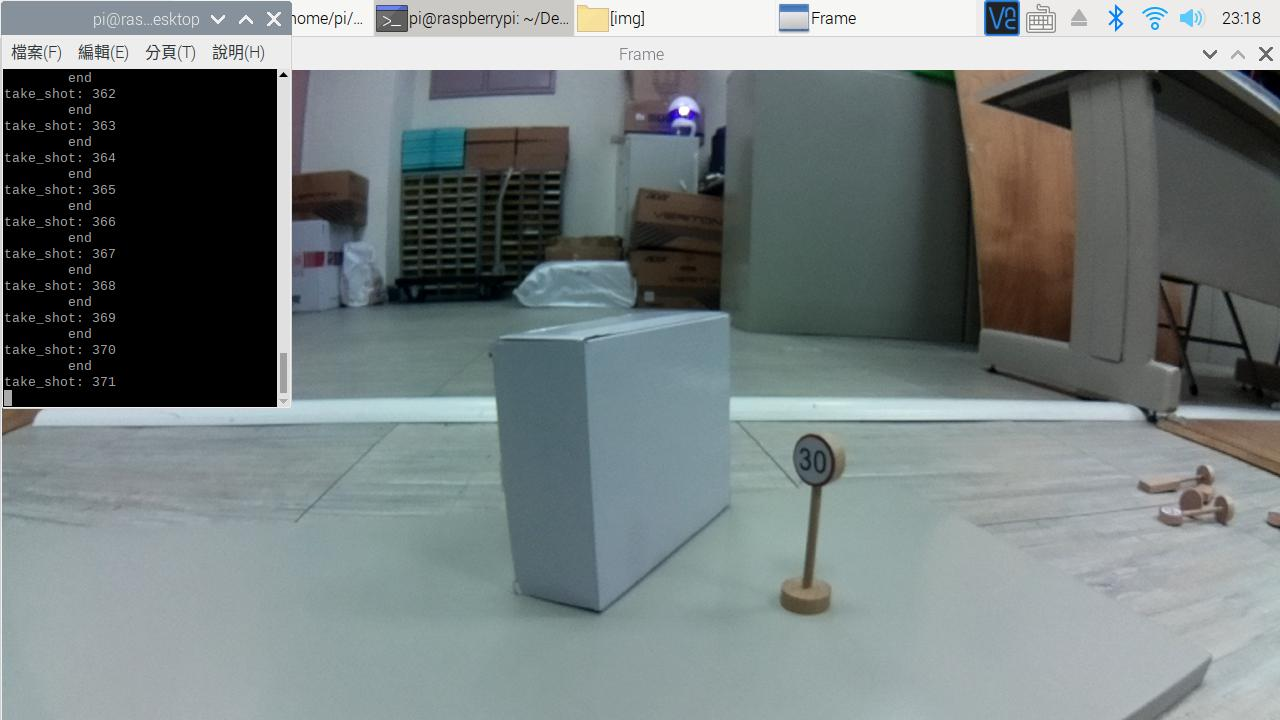Speed30: (779, 418, 864, 499)
